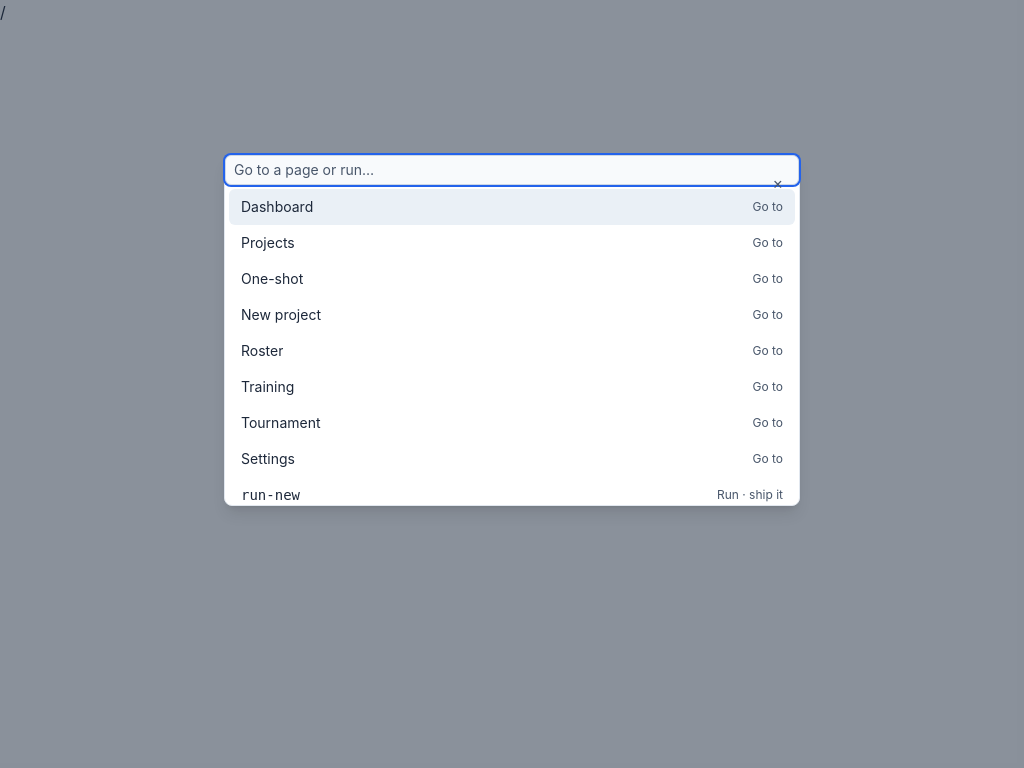
Test: CommandPalette › clicking a run opens its cockpit
Click the option "run-new Run · ship it". click: (271, 495)
box: [241, 487, 783, 503]
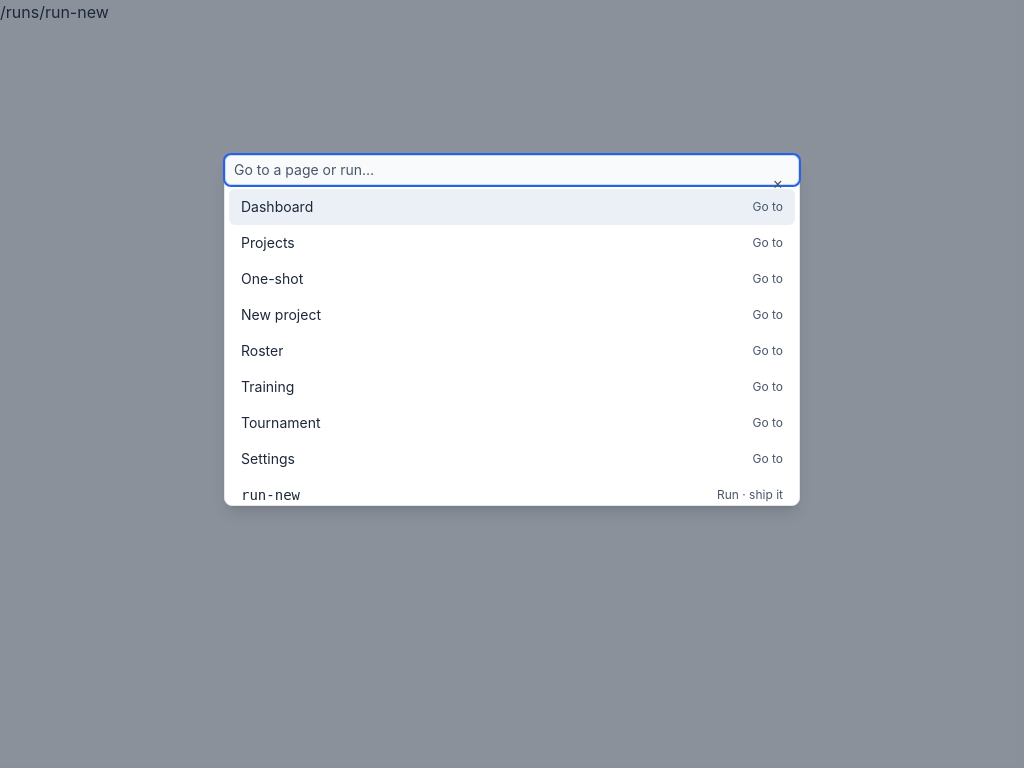
Expected: the text with test id "where" reads "/runs/run-new", [0, 2, 109, 22]
